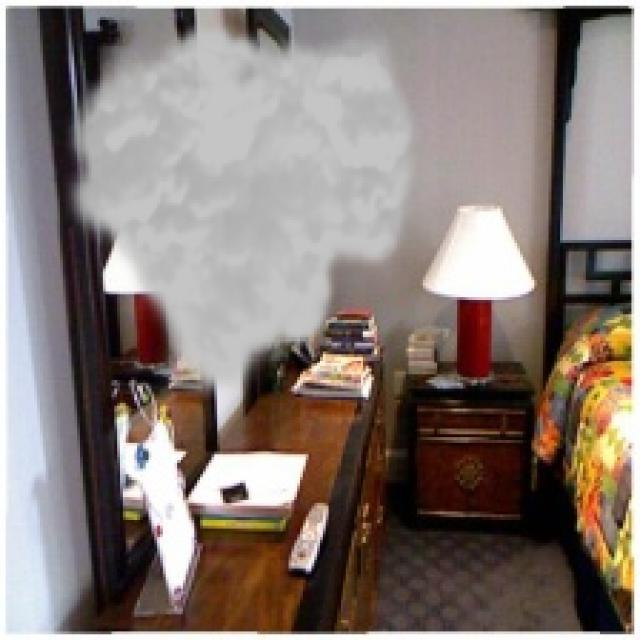smoke: (57, 20, 426, 403)
